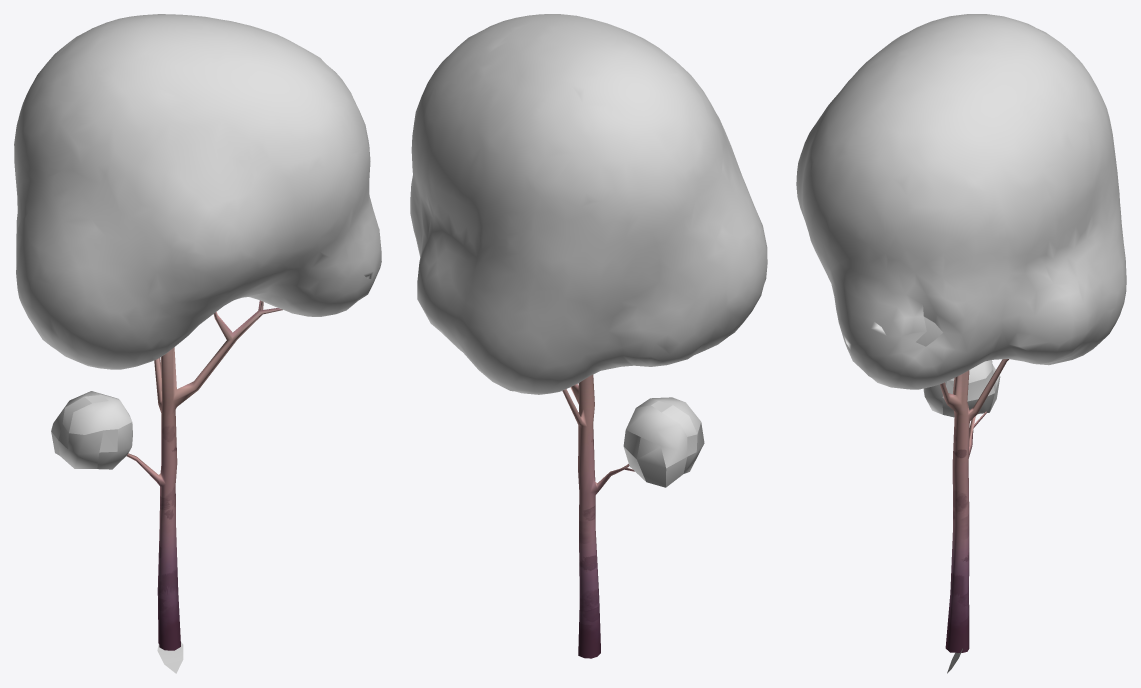
The model's file is tree.glb.
The picture shows the model from 3 angles, left to right: view 1: azimuth 30°, elevation 25°; view 2: azimuth 150°, elevation 25°; view 3: azimuth 270°, elevation 25°; orthographic projection.
Parts seen in each view (by area): view 1: Leaves, Pole; view 2: Leaves, Pole; view 3: Leaves, Pole.
Part boxes in pixels (x1,y1,x2,y2): Leaves: [14, 14, 381, 469]; Pole: [126, 300, 282, 650]; Leaves: [410, 14, 767, 487]; Pole: [562, 375, 634, 658]; Leaves: [796, 14, 1126, 417]; Pole: [940, 359, 1008, 652].
Bounding box in the file's own units: 2.61 × 4.81 × 2.24.
1 material, 1 textured.
